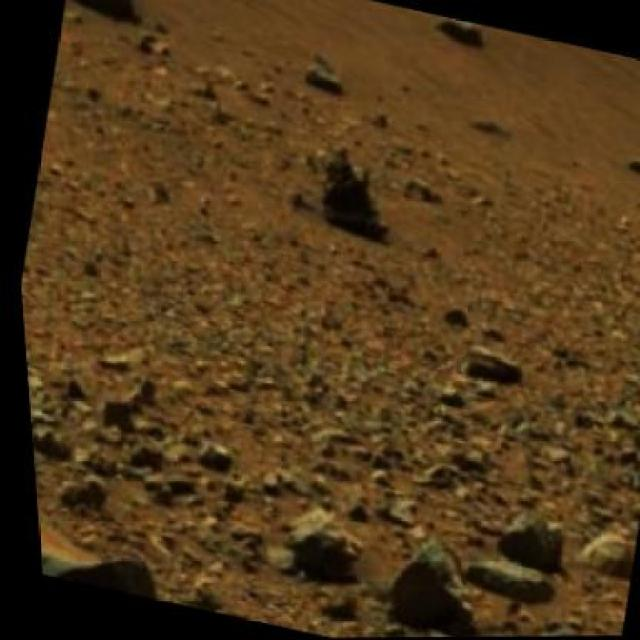rock: (28, 482, 224, 612), (368, 533, 477, 636), (294, 146, 400, 246), (257, 498, 368, 593), (480, 508, 562, 578), (565, 527, 629, 582), (62, 0, 162, 34)
